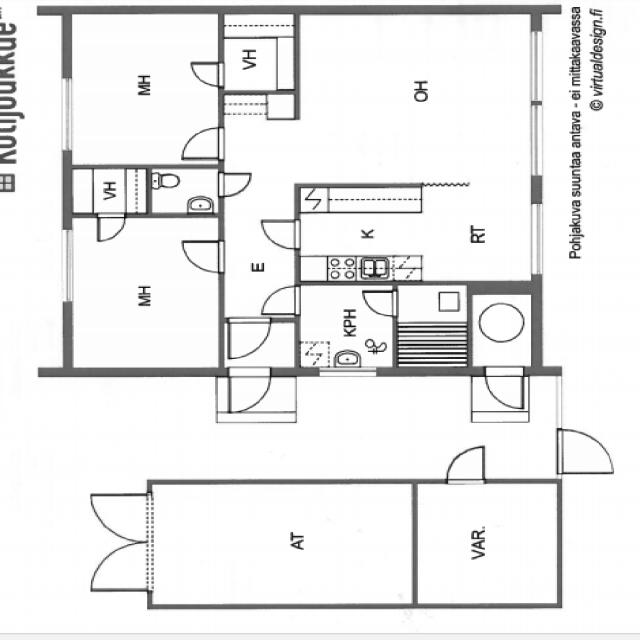door: (84, 513, 152, 594), (83, 491, 152, 554), (554, 422, 616, 476), (218, 363, 278, 418), (222, 314, 274, 361), (479, 363, 528, 412), (440, 444, 492, 489), (174, 123, 228, 163), (255, 215, 309, 253), (176, 238, 228, 274), (256, 284, 304, 318), (358, 285, 402, 321), (185, 57, 229, 89), (212, 168, 254, 199), (92, 212, 130, 245)
window: (519, 24, 557, 180), (523, 99, 552, 184), (523, 196, 551, 282), (524, 25, 552, 109), (52, 72, 78, 157), (52, 223, 78, 307), (310, 363, 383, 383), (549, 370, 571, 435)
zone: (300, 12, 538, 289), (146, 482, 418, 608), (63, 214, 222, 373), (63, 10, 222, 166), (413, 479, 563, 608), (294, 182, 428, 284), (295, 282, 395, 369), (393, 281, 471, 371), (221, 14, 298, 92), (147, 165, 220, 216)
